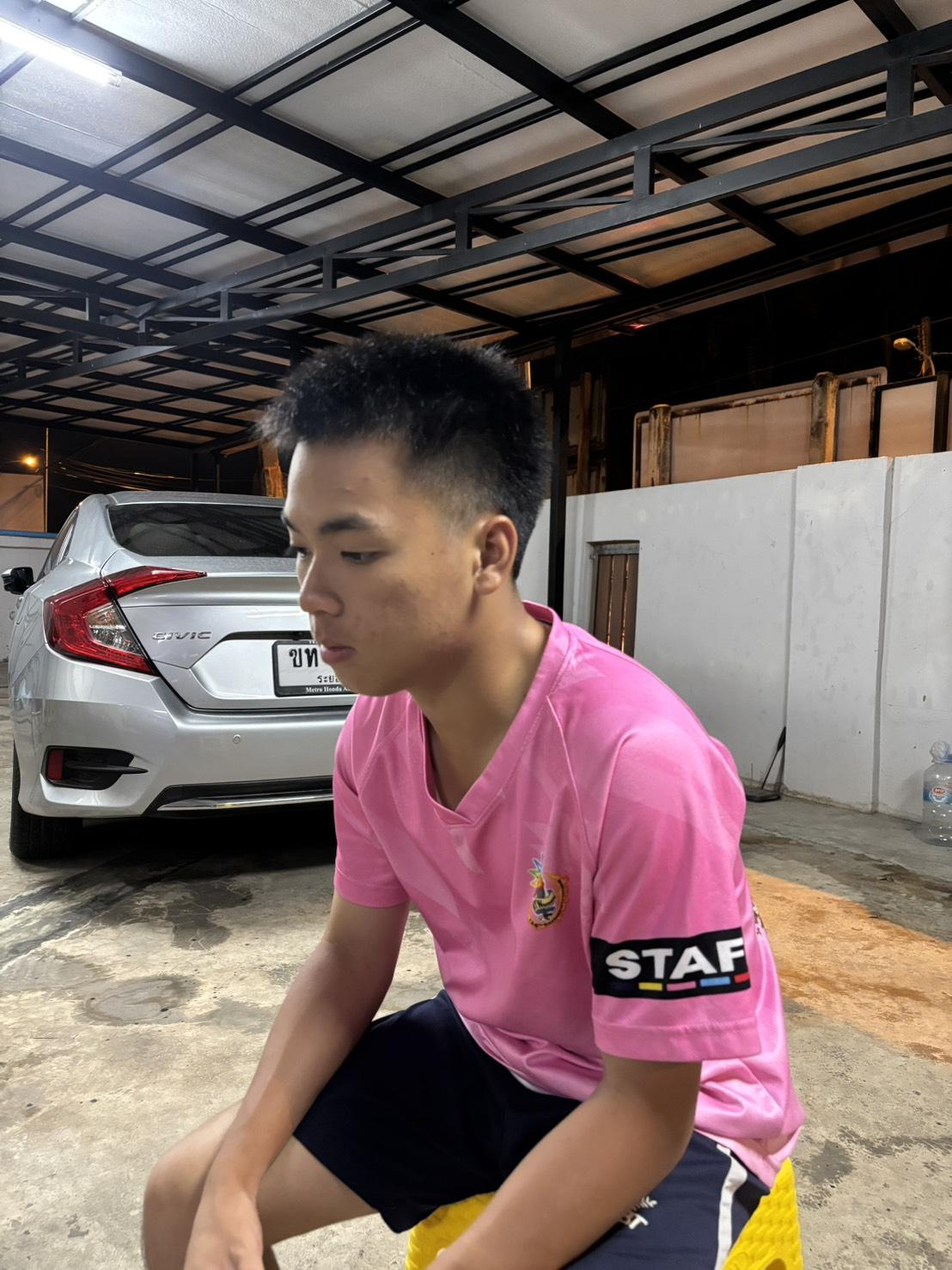BadPosture: (143, 334, 802, 1269)
